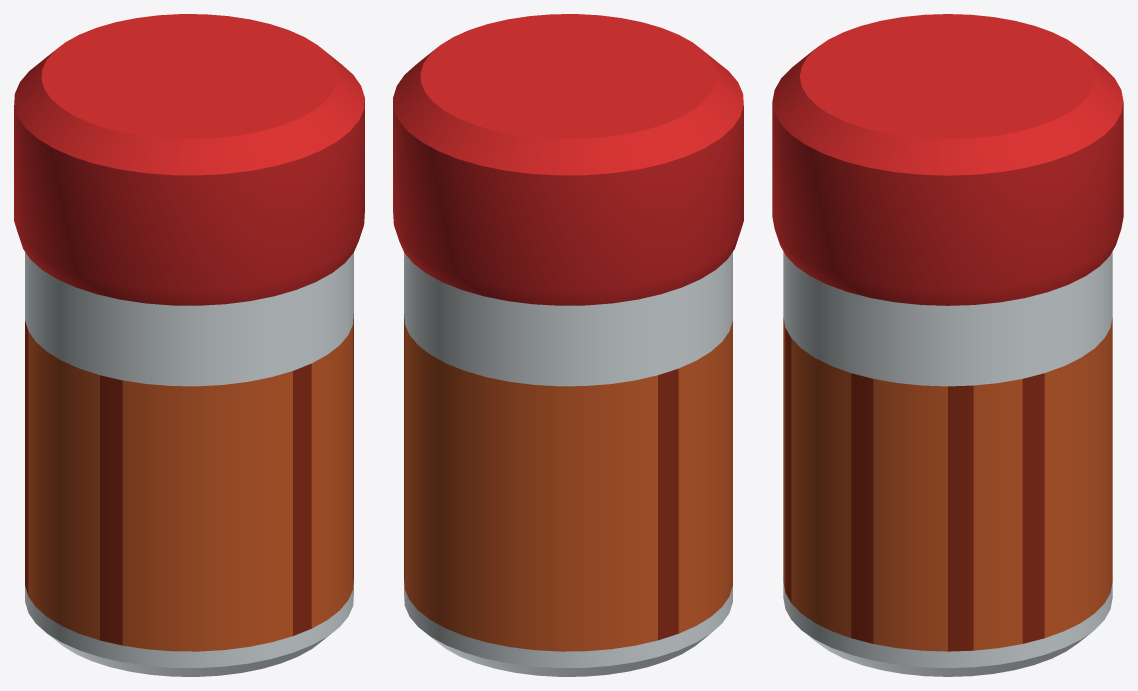
The model's file is Shichimi_Shaker.fbx.
3 renders of one model, left to right at view 1: azimuth 30°, elevation 25°; view 2: azimuth 150°, elevation 25°; view 3: azimuth 270°, elevation 25°, orthographic.
Visible parts, largest first — view 1: Shichimi_Shaker; view 2: Shichimi_Shaker; view 3: Shichimi_Shaker.
Part boxes in pixels (x1,y1,x2,y2): Shichimi_Shaker: (14, 14, 364, 676); Shichimi_Shaker: (393, 14, 743, 676); Shichimi_Shaker: (772, 14, 1123, 676).
Bounding box in the file's own units: 0.0384 × 0.065 × 0.0384.
